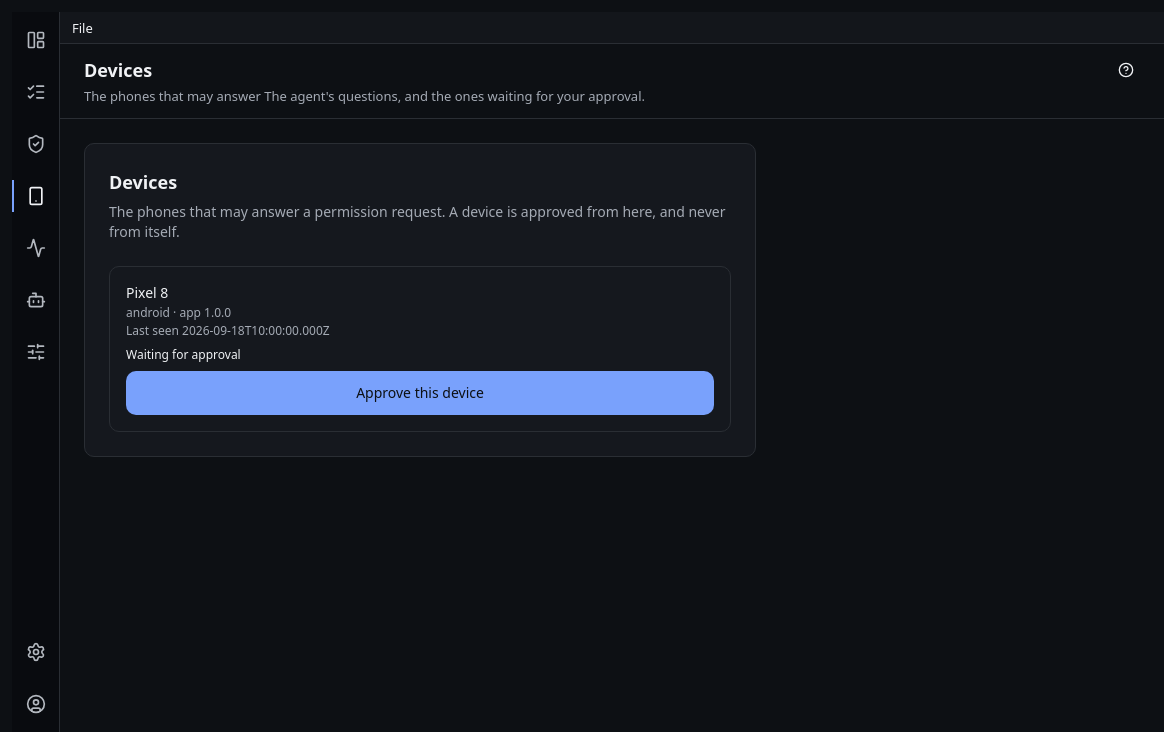
Test case: Devices, a screen of its own — plan 06, B-29 › approves a device as before — S-138
The width and height of the screenshot is (1164, 732).
Click the button "Approve this device".
click(420, 393)  # box x1=126 y1=371 x2=714 y2=415
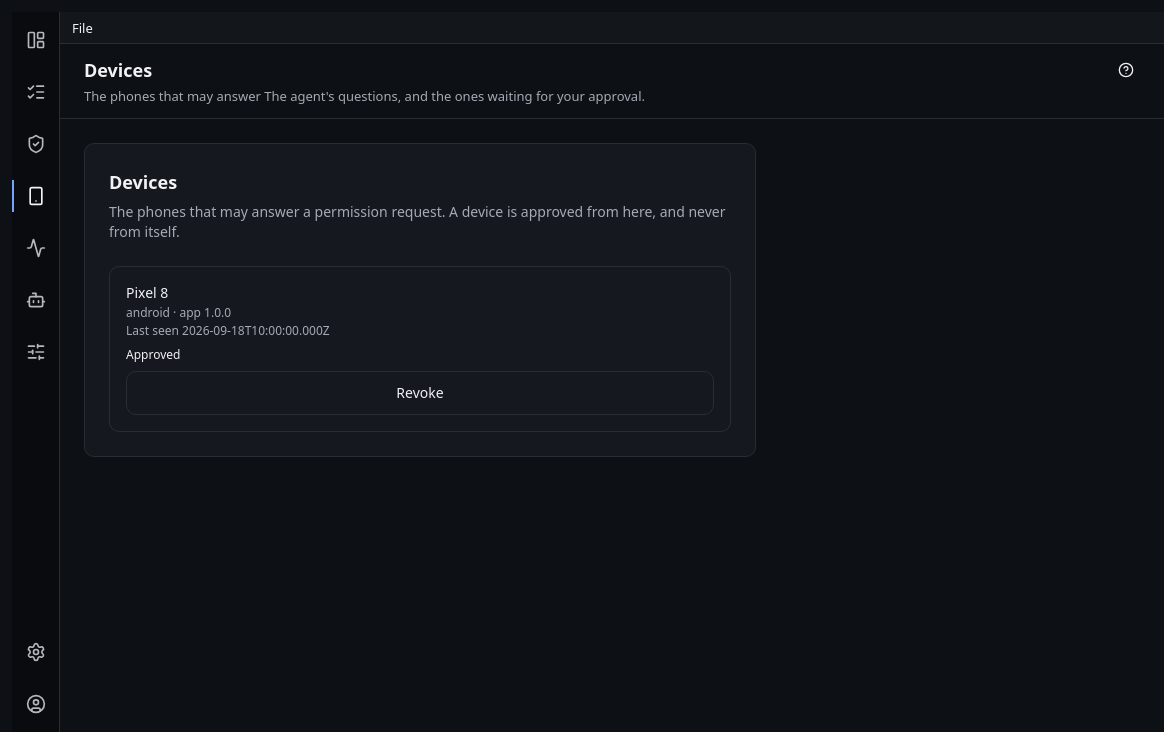
Result: the text "Approved" is shown at x1=126 y1=346 x2=180 y2=363
